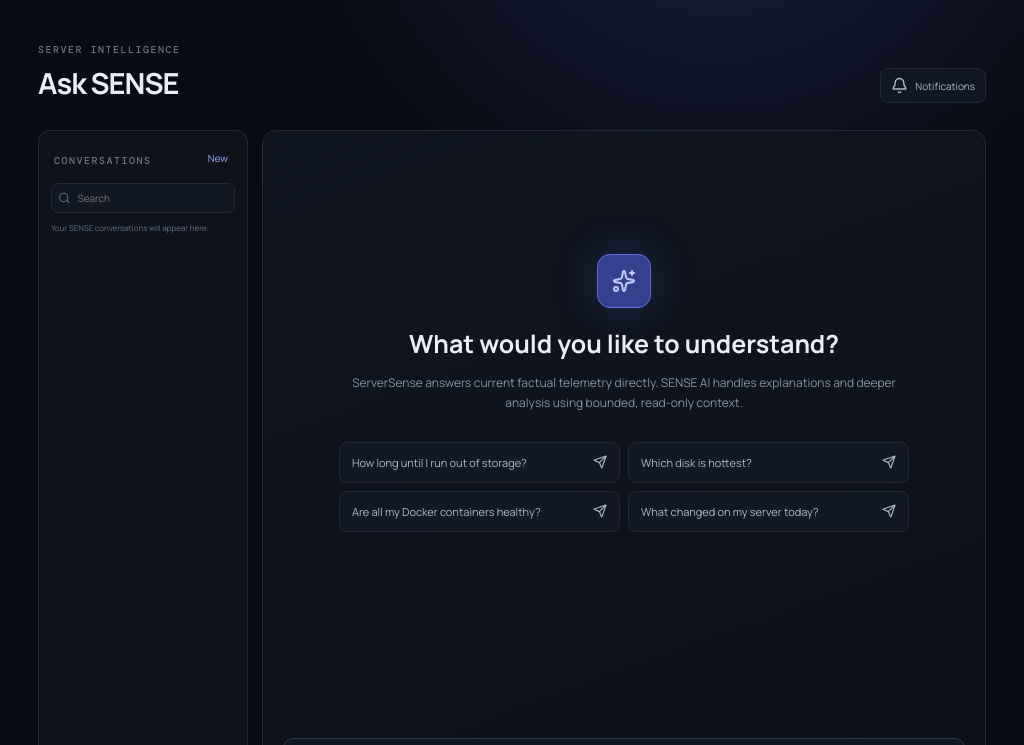
Scenario: SENSE requests › keeps a durable job running when the live response connection is lost
This screenshot has width=1024, height=745.
Click the button "What changed on my server today?": (768, 511) 628,491 -> 909,532
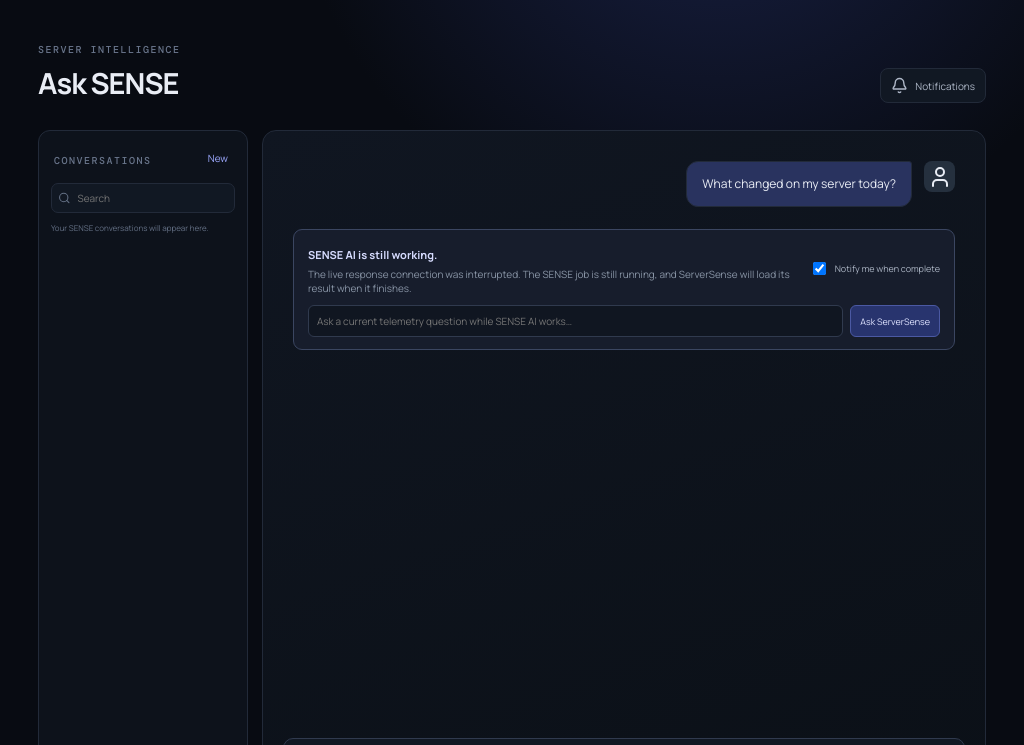
Expected: the text "live response connection was interrupted" is shown, 308,267 -> 790,295
Expected: the text "SENSE AI is still working." is shown, 308,247 -> 437,262
